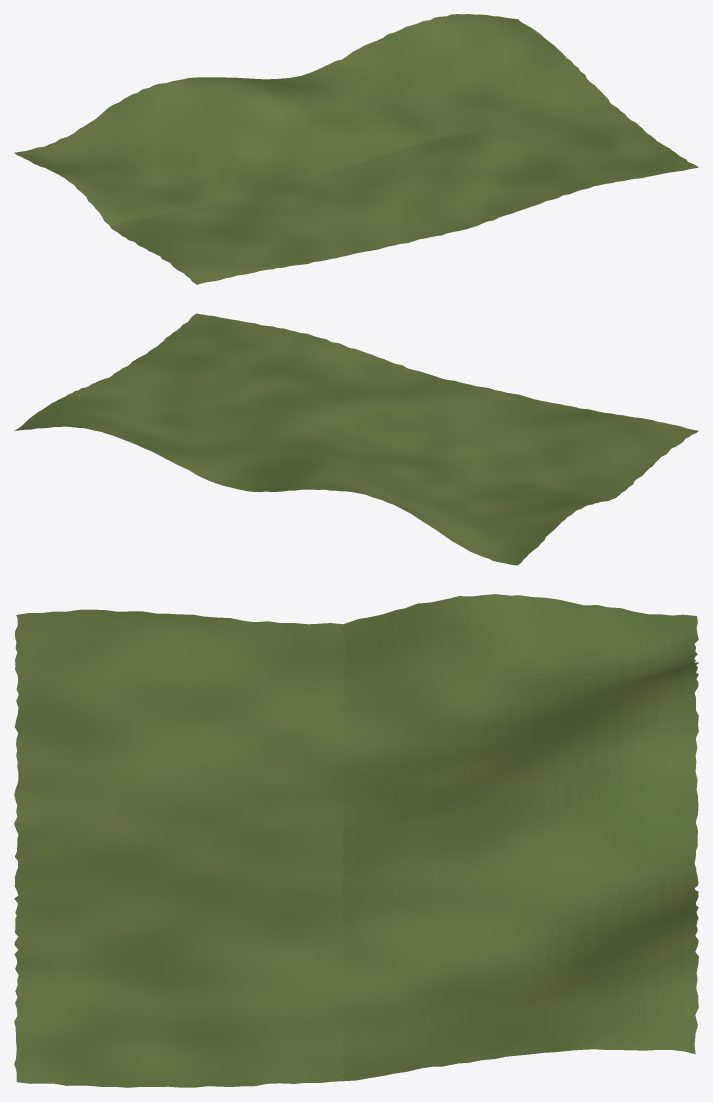
File: earth.glb
The picture shows the model from 3 angles, top to bottom: view 1: azimuth 30°, elevation 25°; view 2: azimuth 150°, elevation 25°; view 3: azimuth 270°, elevation 25°; orthographic projection. The views are drawn at different scales.
Parts seen in each view (by area): view 1: TallMeadowGround; view 2: TallMeadowGround; view 3: TallMeadowGround.
Part boxes in pixels (x1,y1,x2,y2): TallMeadowGround: (14, 14, 698, 284); TallMeadowGround: (15, 313, 698, 565); TallMeadowGround: (14, 594, 698, 1087).
Size of the model in its own units: 86.37 by 7.12 by 54.38.
